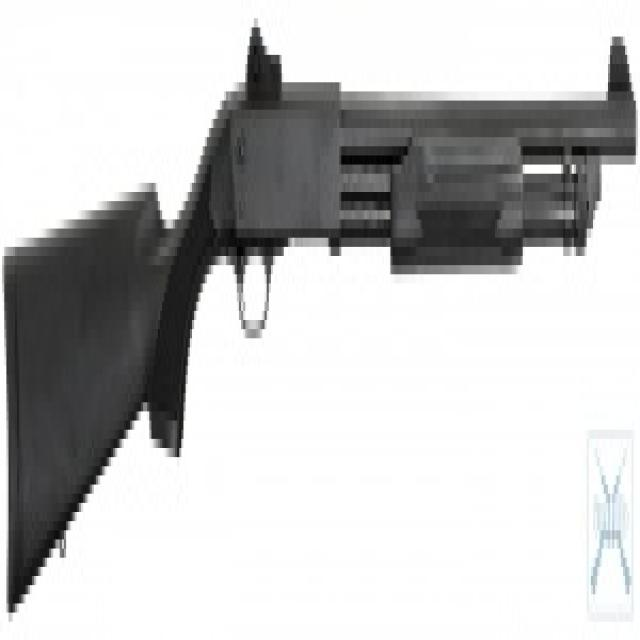rifle: (2, 24, 640, 628)
